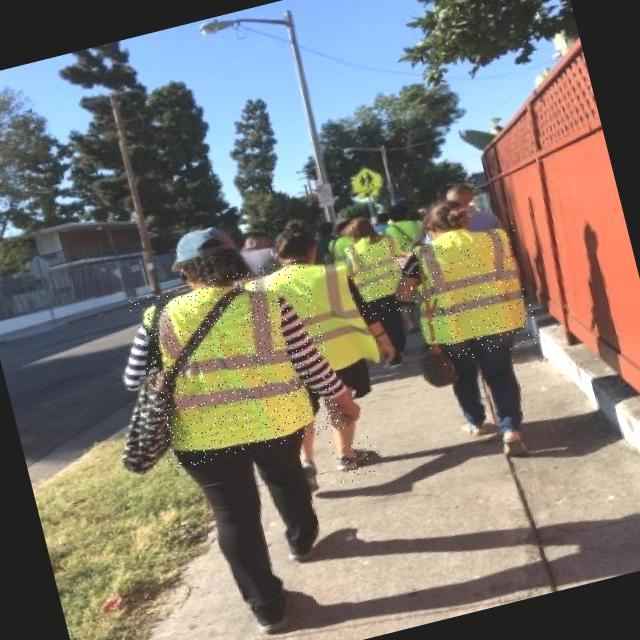boots: (328, 430, 382, 486)
vest: (127, 256, 345, 470), (402, 220, 543, 369), (344, 234, 428, 324)
